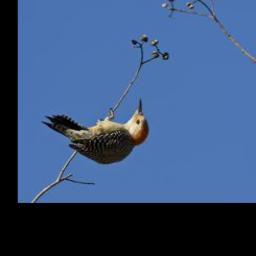Woodpecker: (39, 95, 159, 165)
